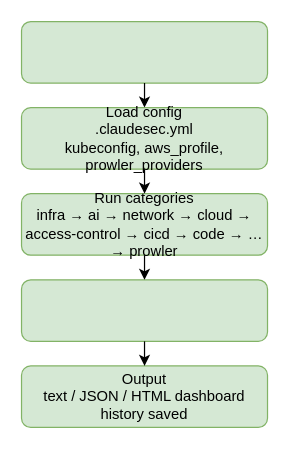
The diagram is 289 pixels wide and 449 high, and some of its shapes have lost their labels. Here are the shapes that lost their labels. From the top down, the box of each, then its label:
(20, 20, 268, 83): Start claudesec scan
(20, 279, 268, 341): Aggregate passed/failed/warnings findings by severity
